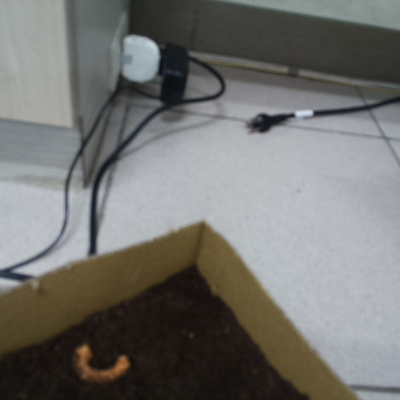eggs: (64, 338, 135, 389)
